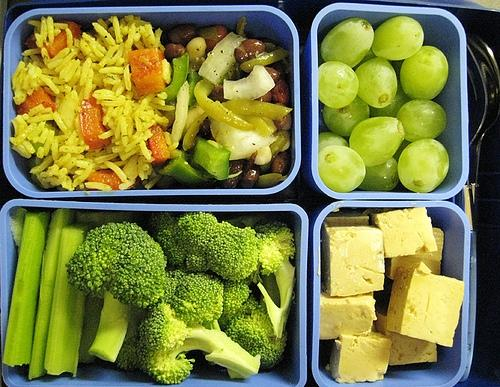broccoli: (136, 269, 261, 387), (66, 223, 167, 308), (254, 220, 296, 340), (202, 220, 259, 282), (172, 212, 221, 254), (217, 278, 252, 330)
celery: (29, 208, 76, 380), (2, 212, 52, 367), (44, 226, 87, 378), (76, 209, 106, 364), (88, 291, 130, 362)
grape: (349, 116, 405, 168), (397, 139, 450, 193), (321, 17, 374, 68), (400, 46, 449, 100), (371, 16, 424, 61), (318, 146, 366, 192), (354, 58, 398, 108), (396, 98, 446, 142), (323, 94, 370, 137), (318, 61, 359, 108), (368, 79, 412, 118), (356, 156, 400, 192), (318, 132, 349, 154)
onion: (208, 116, 290, 160), (198, 32, 248, 85), (224, 66, 274, 100), (171, 80, 189, 143), (254, 146, 272, 164)
